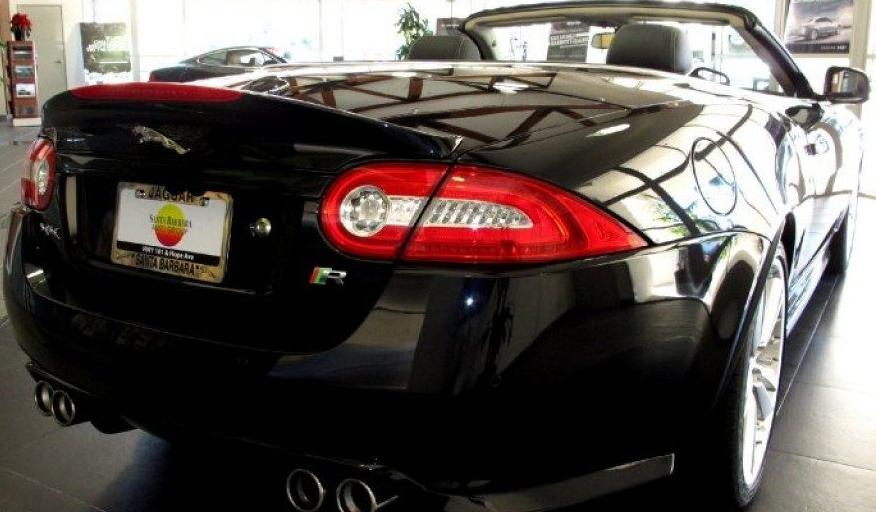back_view: (0, 79, 664, 510)
backlight: (310, 150, 655, 279)
